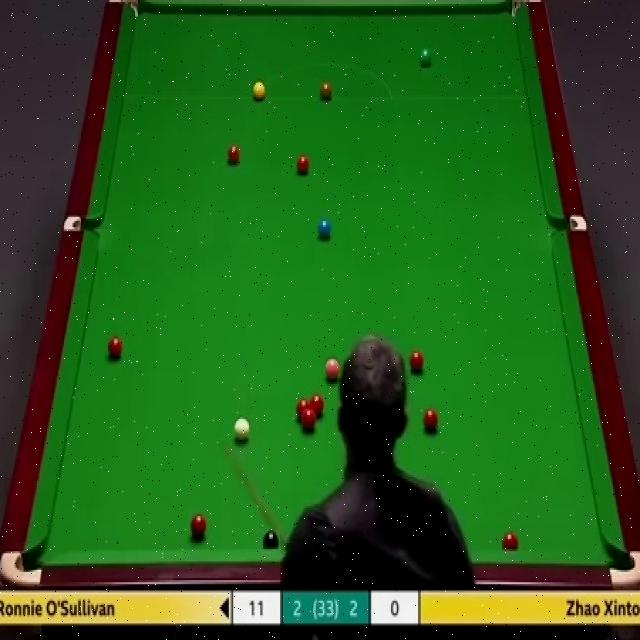black-ball: (262, 530, 281, 551)
blue-ball: (316, 218, 332, 240)
brown-ball: (320, 78, 332, 99)
green-ball: (416, 46, 432, 68)
pink-ball: (324, 358, 341, 384)
red-ball: (189, 513, 208, 540), (409, 348, 426, 375), (294, 152, 310, 177), (423, 408, 437, 436), (108, 336, 122, 364), (296, 398, 310, 424), (310, 394, 324, 418), (502, 529, 518, 550), (226, 144, 240, 167), (302, 412, 317, 432)
white-ball: (232, 416, 252, 440)
yellow-ball: (251, 82, 267, 100)
